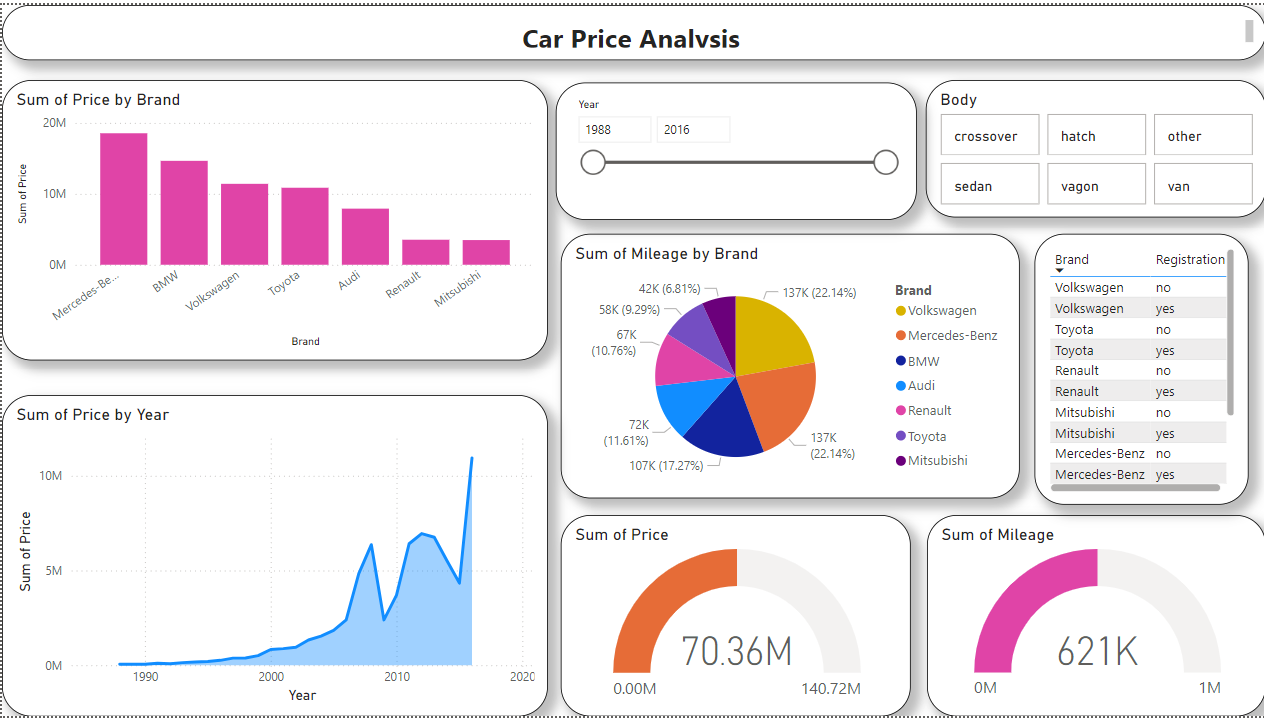

Layout of this report page (visuals, bound fields, positions):
{"tool":"powerbi","page":{"name":"Page 1","canvas":[1280,720],"ordinal":0},"visuals":[{"type":"columnChart","fields":{"Category":["Car_cleaned_with_Model.Brand"],"Y":["Sum(Car_cleaned_with_Model.Price)"]},"box":[0,75.8,552.7,283.7],"z":0},{"type":"pieChart","fields":{"Category":["Car_cleaned_with_Model.Brand"],"Y":["Sum(Car_cleaned_with_Model.Mileage)"]},"box":[566.2,231.1,464.7,267.8],"z":1000},{"type":"areaChart","fields":{"Category":["Car_cleaned_with_Model.Year"],"Y":["Sum(Car_cleaned_with_Model.Price)"]},"box":[0,395,552.7,325.3],"z":2000},{"type":"gauge","fields":{"Y":["Sum(Car_cleaned_with_Model.Price)"]},"box":[566.2,516,354.6,204.2],"z":3000},{"type":"textbox","box":[0,0,1219,55.7],"z":4000},{"type":"gauge","fields":{"Y":["Sum(Car_cleaned_with_Model.Mileage)"]},"box":[936.7,516.5,343,203.8],"z":5000},{"type":"advancedSlicerVisual","fields":{"Values":["Car_cleaned_with_Model.Body"]},"box":[935.5,75.8,344.8,139.4],"z":6000},{"type":"tableEx","fields":{"Values":["Car_cleaned_with_Model.Brand","Car_cleaned_with_Model.Registration"]},"box":[1045.6,231.6,216.5,274.7],"z":7000},{"type":"slicer","fields":{"Values":["Car_cleaned_with_Model.Year"]},"box":[561.3,78.3,365.6,139.4],"z":7001},{"type":"actionButton","box":[1219,0,60.8,50.6],"z":7002}]}

Visuals, with their boxes in screenshot pixels (x1, y1, x2, y2), scaled from the page's 1280x720 canvas onto the 1264x718 screenshot:
columnChart - Car_cleaned_with_Model.Brand x Sum(Car_cleaned_with_Model.Price): 0, 76, 546, 359
pieChart - Car_cleaned_with_Model.Brand x Sum(Car_cleaned_with_Model.Mileage): 559, 230, 1018, 498
areaChart - Car_cleaned_with_Model.Year x Sum(Car_cleaned_with_Model.Price): 0, 394, 546, 717
gauge - Sum(Car_cleaned_with_Model.Price): 559, 515, 909, 717
textbox: 0, 0, 1204, 56
gauge - Sum(Car_cleaned_with_Model.Mileage): 925, 515, 1263, 717
advancedSlicerVisual - Car_cleaned_with_Model.Body: 924, 76, 1263, 215
tableEx - Car_cleaned_with_Model.Brand x Car_cleaned_with_Model.Registration: 1033, 231, 1246, 505
slicer - Car_cleaned_with_Model.Year: 554, 78, 915, 217
actionButton: 1204, 0, 1263, 50
